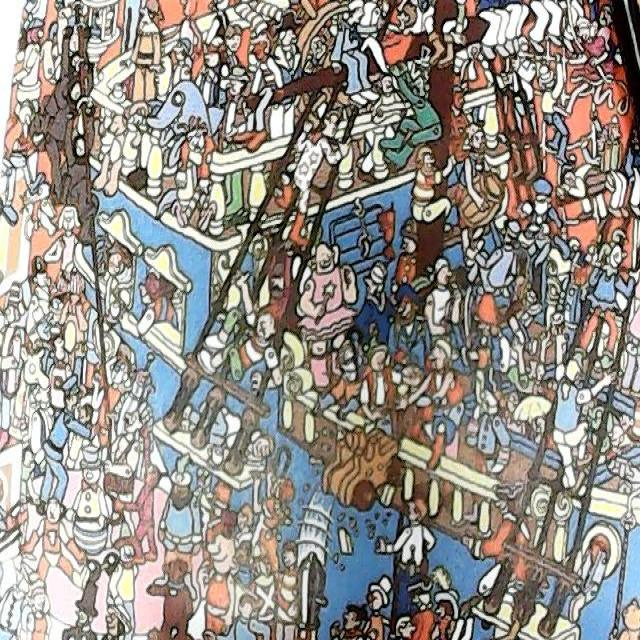waldo: (45, 282, 67, 330)
